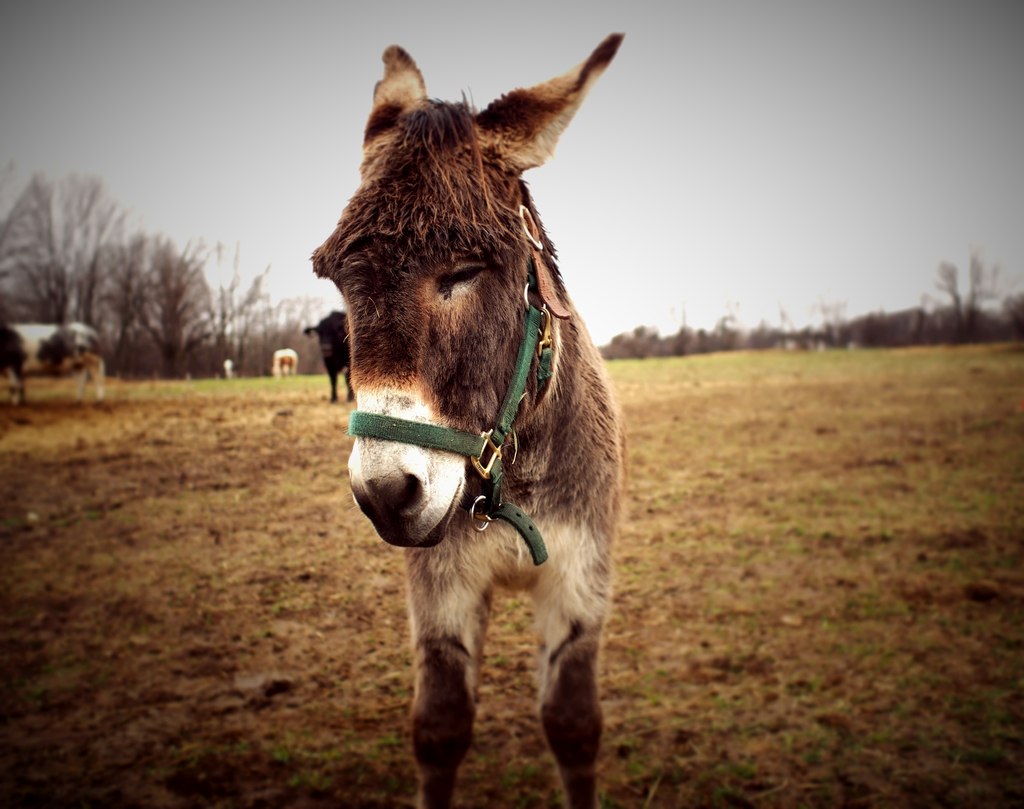person: (305, 305, 351, 402)
